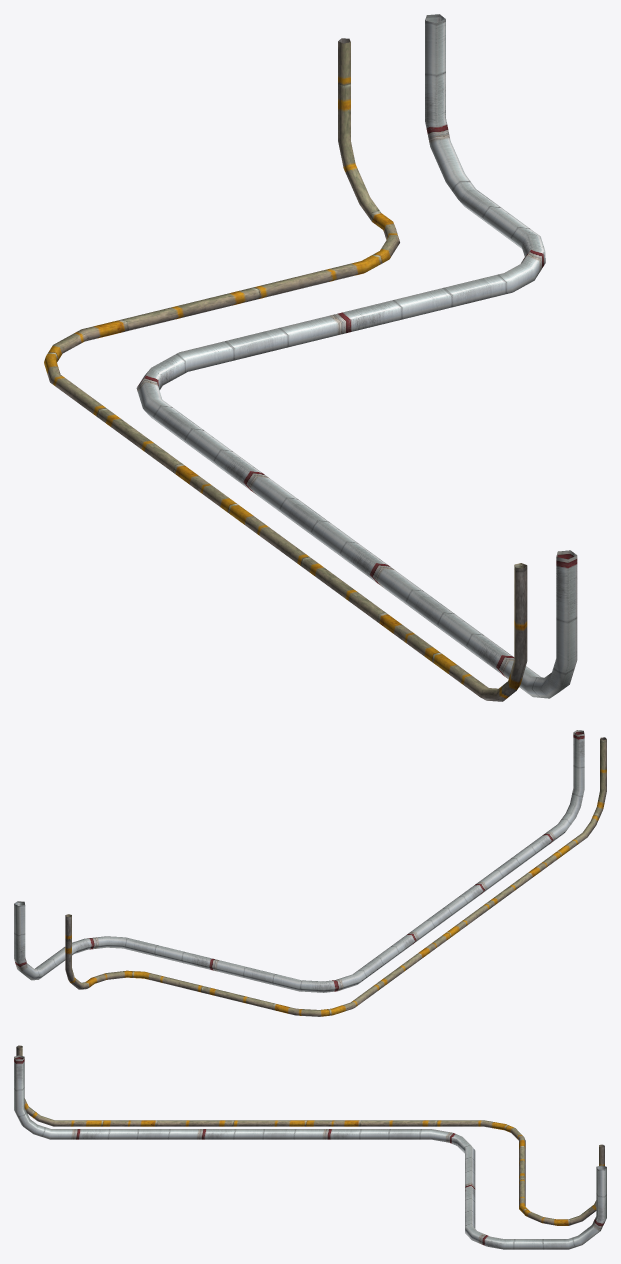
File: EQP_PIPES015.FBX
3 renders of one model, top to bottom at view 1: azimuth 30°, elevation 25°; view 2: azimuth 150°, elevation 25°; view 3: azimuth 270°, elevation 25°, orthographic. The views are drawn at different scales.
Parts seen in each view (by area): view 1: PIPES015; view 2: PIPES015; view 3: PIPES015.
Boxes of the visible parts, x1=… form: PIPES015: x1=44, y1=14, x2=577, y2=701; PIPES015: x1=14, y1=730, x2=606, y2=1016; PIPES015: x1=14, y1=1045, x2=606, y2=1249.
Size of the model in its own units: 170 by 52.17 by 342.
Materials: 1 (1 with a texture image).
